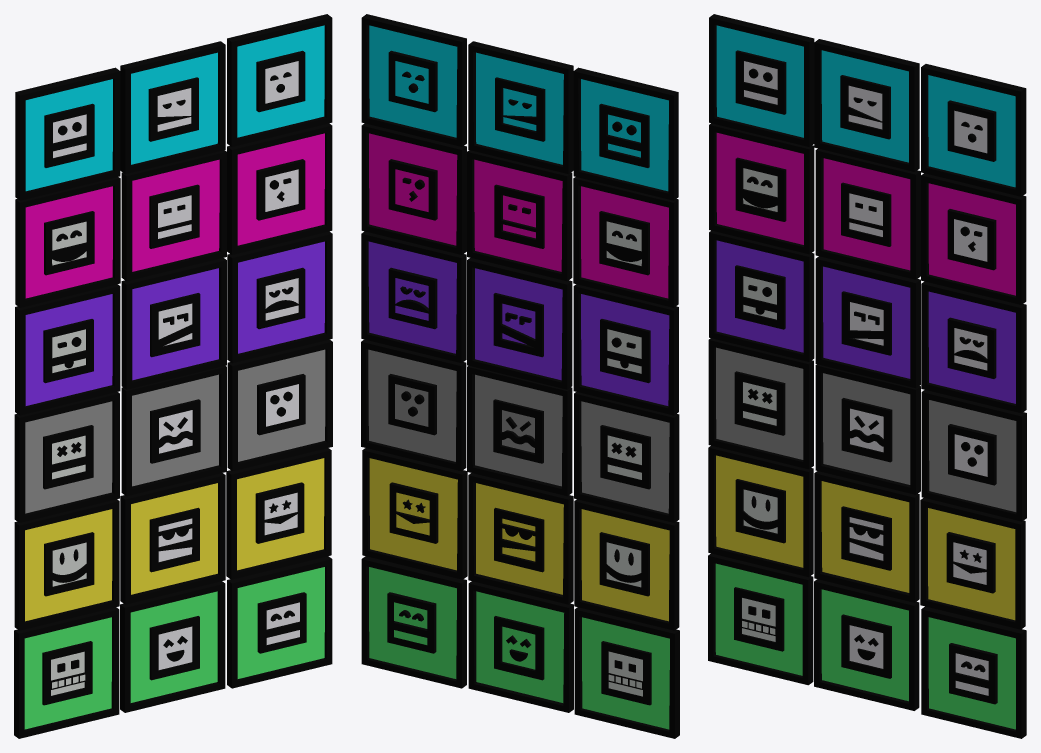
Rendered from Robo Faces GLB 1.glb.
3 renders of one model, left to right at view 1: azimuth 30°, elevation 25°; view 2: azimuth 150°, elevation 25°; view 3: azimuth 330°, elevation 25°, orthographic.
Parts seen in each view (by area): view 1: B1 Teal, B2 Teal, B3 Teal, B3 Green, B2 Purple, B2 Green, B3 Yellow, B3 Purple, B1 Green, B2 Yellow, B3 Grey, B3 Pink (+6 smaller); view 2: B1 Teal, B2 Teal, B3 Teal, B3 Green, B2 Purple, B2 Green, B3 Yellow, B3 Purple, B1 Green, B2 Yellow, B3 Grey, B3 Pink (+6 smaller); view 3: B1 Teal, B3 Teal, B2 Teal, B3 Green, B2 Purple, B2 Green, B3 Yellow, B3 Purple, B3 Grey, B1 Green, B3 Pink, B2 Yellow (+6 smaller).
Boxes of the visible parts, x1,y1,x2,y2 form: B1 Teal: (15, 67, 120, 200); B2 Teal: (120, 41, 225, 174); B3 Teal: (227, 14, 332, 146); B3 Green: (227, 556, 332, 688); B2 Purple: (121, 257, 226, 389); B2 Green: (120, 581, 225, 712); B3 Yellow: (226, 448, 331, 579); B3 Purple: (227, 231, 332, 363); B1 Green: (14, 607, 119, 738); B2 Yellow: (120, 473, 225, 604); B3 Grey: (227, 339, 332, 471); B3 Pink: (227, 123, 332, 254); B1 Teal: (573, 67, 678, 200); B2 Teal: (468, 41, 573, 174); B3 Teal: (361, 14, 466, 146); B3 Green: (361, 556, 466, 688); B2 Purple: (467, 257, 572, 389); B2 Green: (468, 581, 573, 712); B3 Yellow: (362, 448, 467, 579); B3 Purple: (361, 231, 466, 363); B1 Green: (574, 607, 679, 738); B2 Yellow: (468, 473, 573, 604); B3 Grey: (361, 339, 466, 471); B3 Pink: (361, 123, 466, 254); B1 Teal: (709, 14, 814, 146); B3 Teal: (921, 64, 1026, 196); B2 Teal: (814, 39, 919, 171); B3 Green: (921, 606, 1026, 738); B2 Purple: (815, 256, 920, 388); B2 Green: (814, 579, 919, 710); B3 Yellow: (920, 498, 1025, 629); B3 Purple: (921, 281, 1026, 413); B3 Grey: (921, 390, 1026, 521); B1 Green: (708, 553, 813, 685); B3 Pink: (921, 173, 1026, 304); B2 Yellow: (814, 471, 919, 602).
Bounding box in the file's own units: 4.31 × 8.48 × 0.1472.
